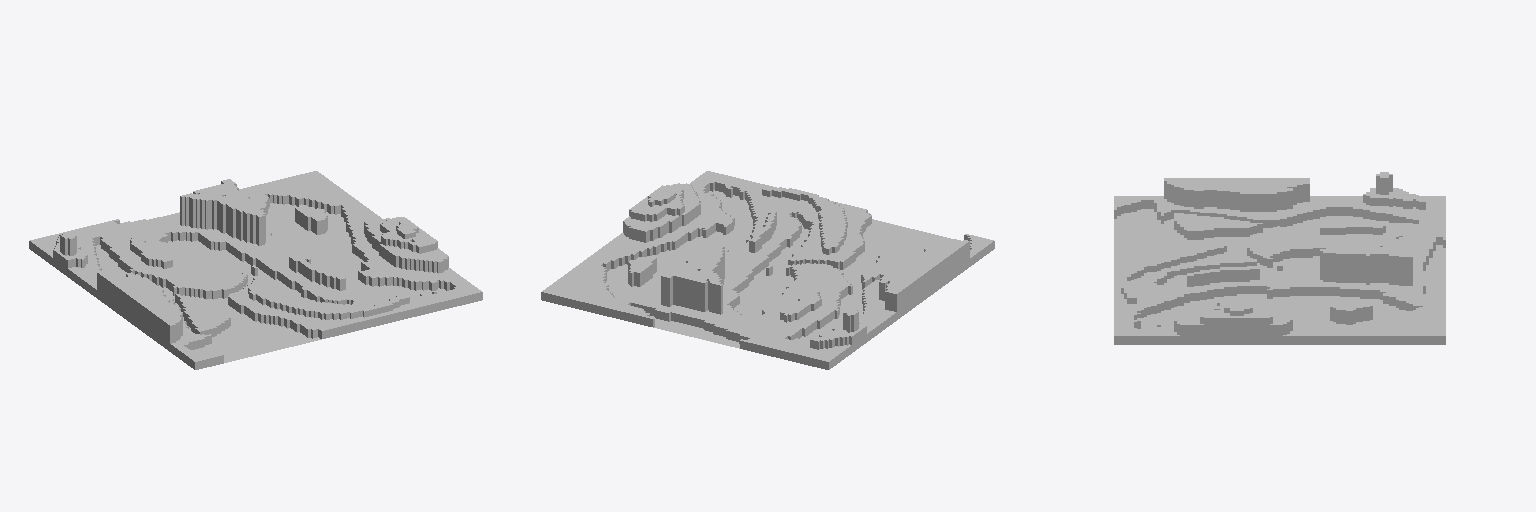
The model's file is ground-asdf.obj.
3 views of the same model, side by side, from view 1: azimuth 30°, elevation 25°; view 2: azimuth 150°, elevation 25°; view 3: azimuth 270°, elevation 25° (orthographic).
Parts seen in each view (by area): view 1: Plane.1; view 2: Plane.1; view 3: Plane.1.
Boxes of the visible parts, <box> form: Plane.1: <box>29,171,482,369</box>; Plane.1: <box>541,171,994,369</box>; Plane.1: <box>1114,172,1445,344</box>.
Bounding box in the file's own units: 2540 × 316 × 2540.